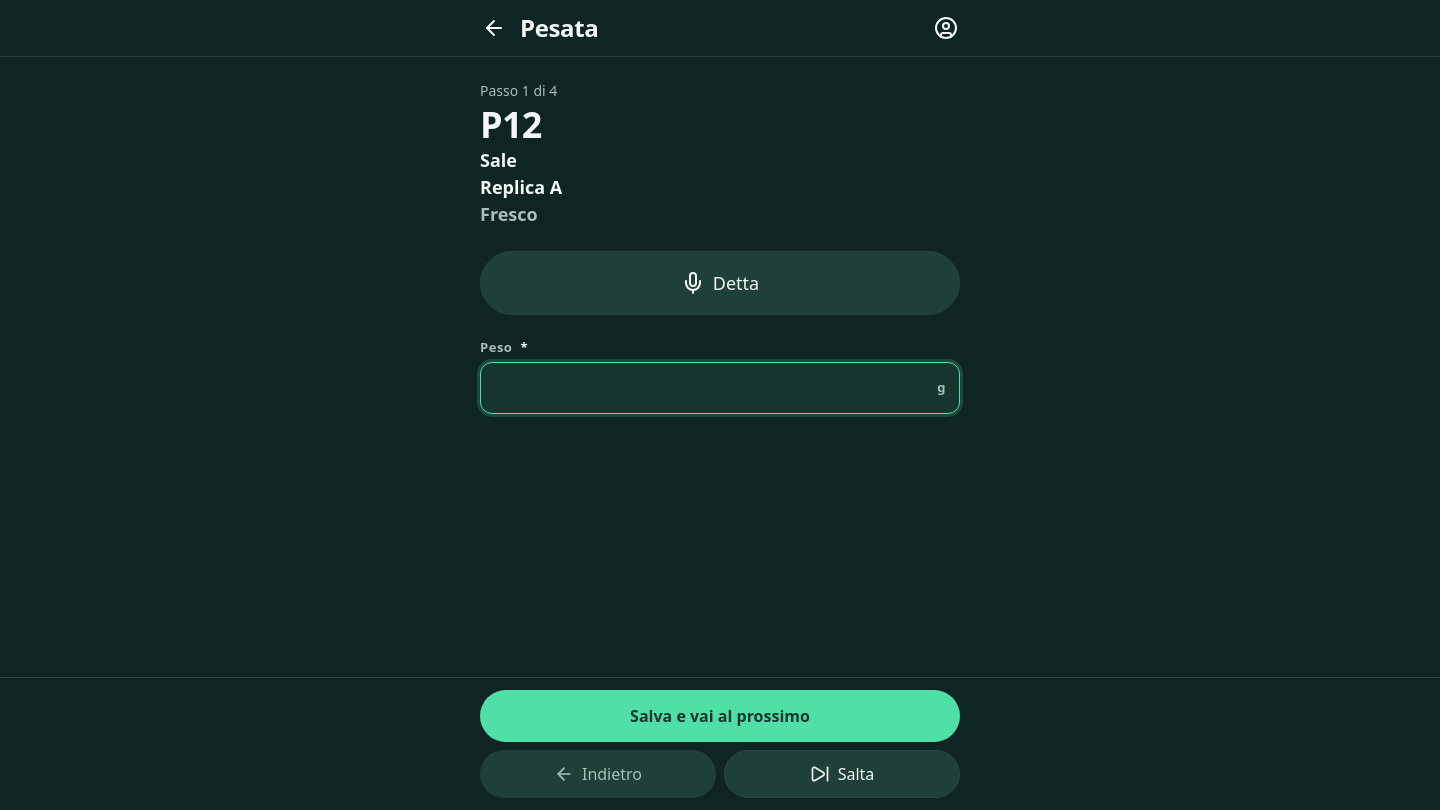
Test: Pesata › Salva e vai al prossimo scrive un peso nuovo, passa avanti e dice che è salvato
Type "1,25" into the field labelled "Peso *" at (720, 388), box x1=480 y1=362 x2=960 y2=414
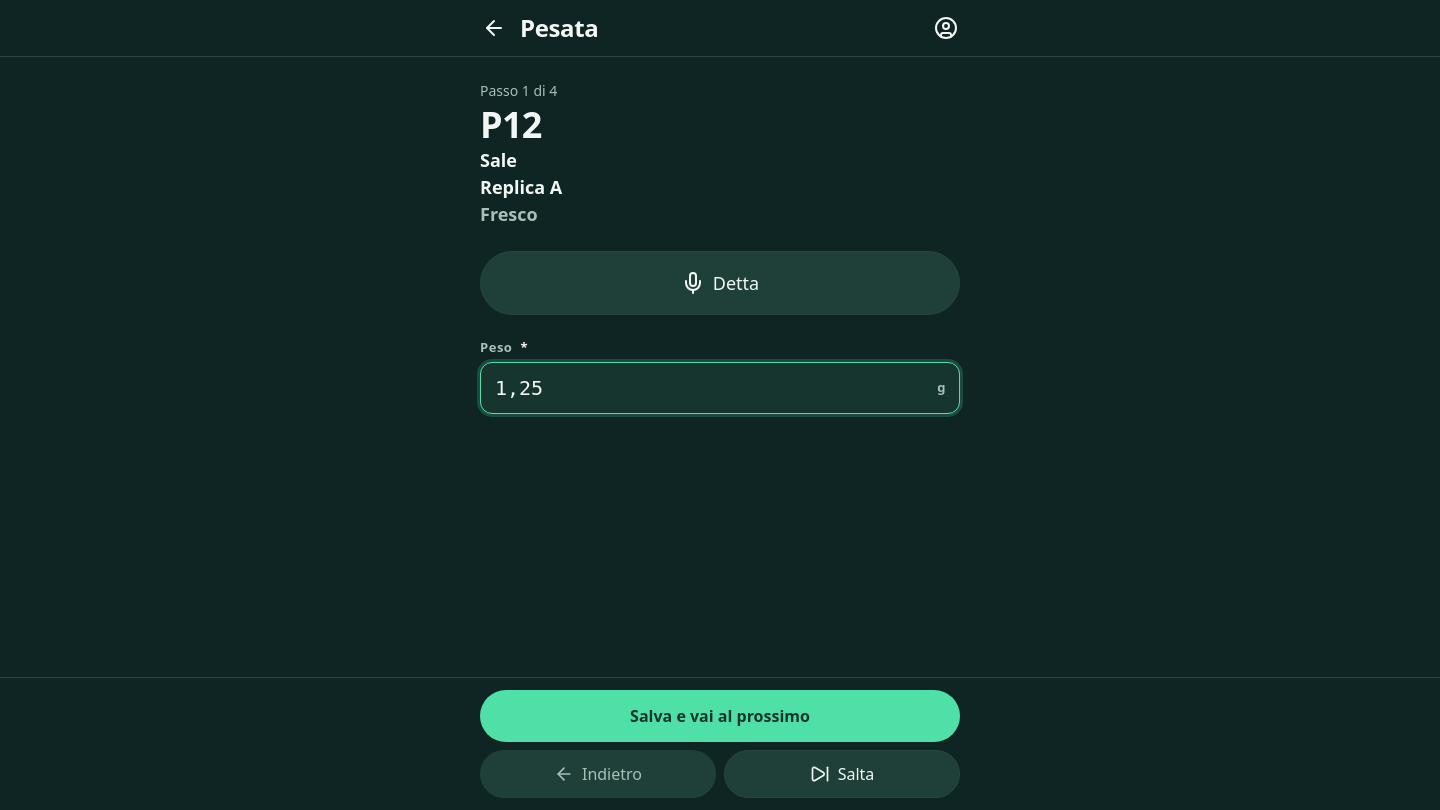
Click the button "Salva e vai al prossimo" at (720, 716), box x1=480 y1=690 x2=960 y2=742
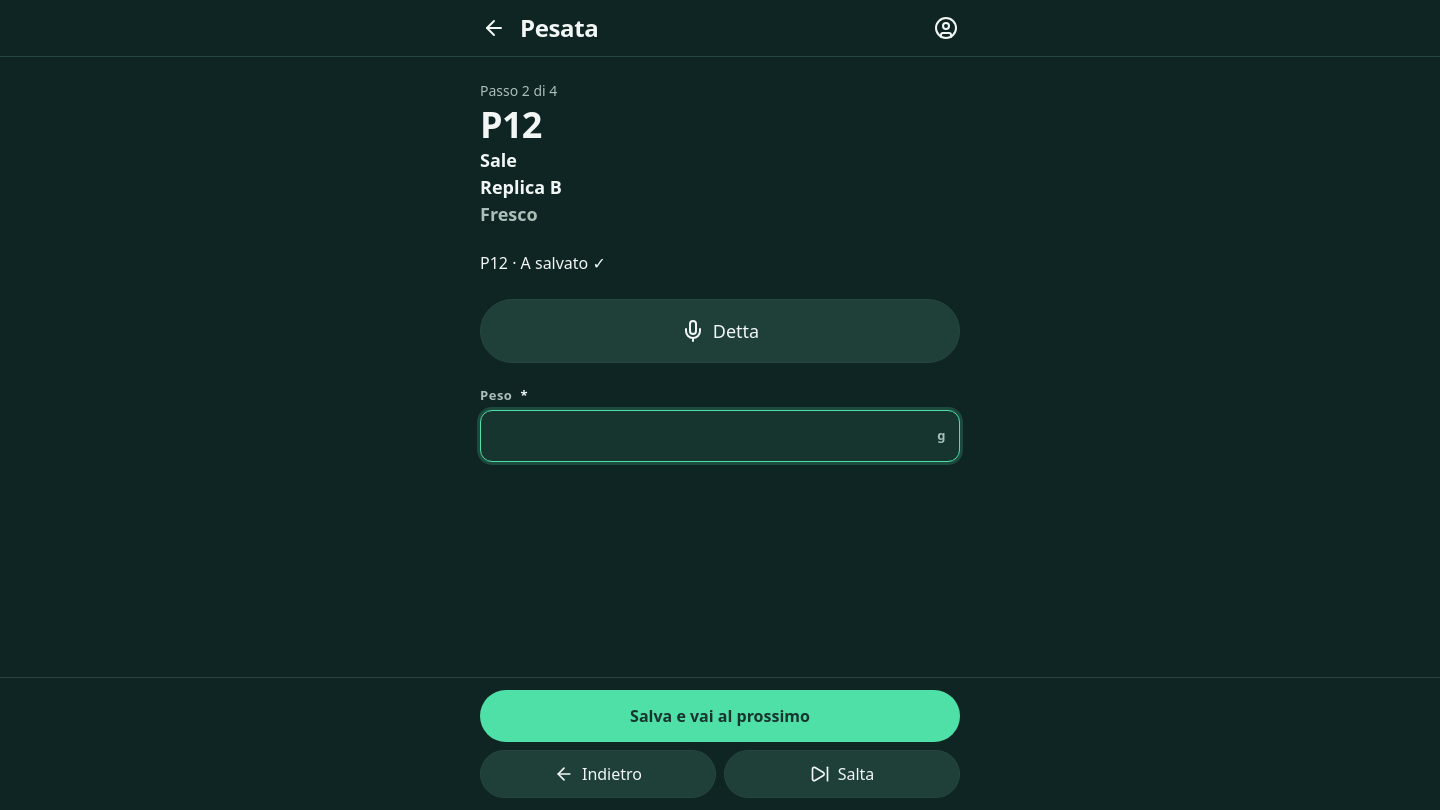
Check: the text "Replica B" is shown, box x1=480 y1=175 x2=562 y2=199
Check: the text "P12 · A salvato ✓" is shown, box x1=480 y1=252 x2=606 y2=274
Check: the field labelled "Peso *" is empty, box x1=480 y1=410 x2=960 y2=462
